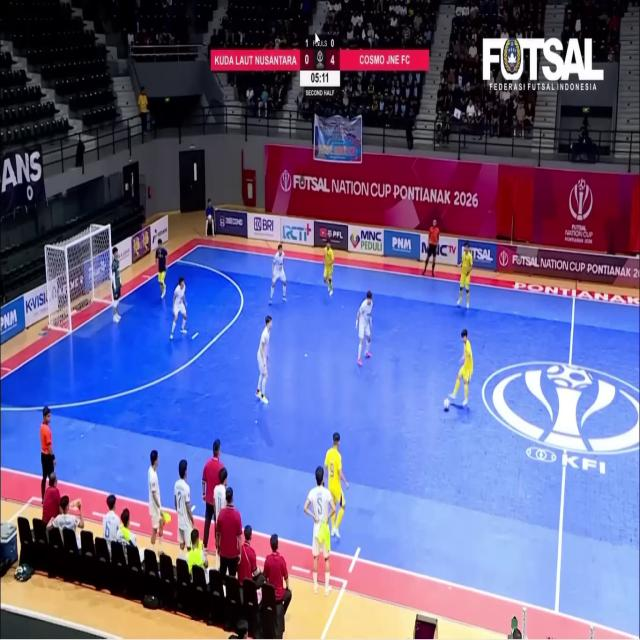keeper: (112, 247, 121, 322), (156, 238, 167, 298)
official: (263, 535, 291, 630), (202, 440, 223, 551), (216, 488, 242, 577), (40, 407, 55, 500)
players: (304, 467, 334, 594), (325, 433, 348, 538), (175, 460, 194, 557), (450, 330, 473, 406), (148, 450, 165, 552), (255, 315, 272, 404), (356, 291, 372, 365), (458, 241, 473, 309), (270, 244, 286, 304), (171, 277, 186, 339), (323, 239, 334, 296)
referee: (40, 407, 55, 500), (423, 220, 439, 276)
